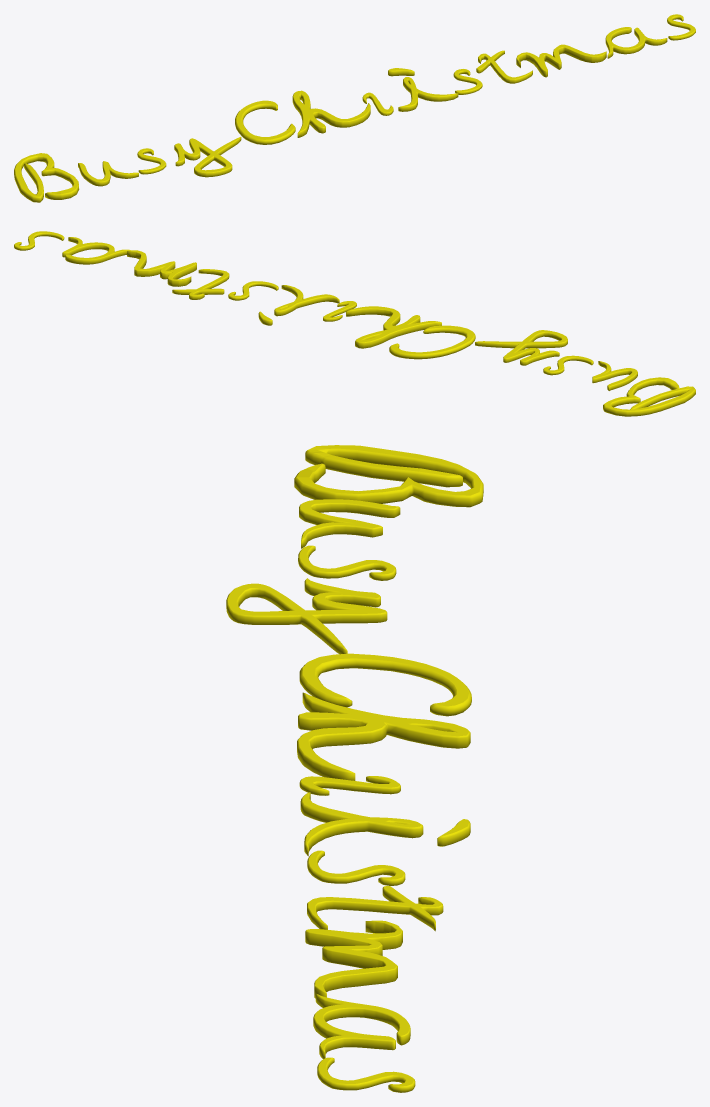
The model's file is title09180110-4.fbx.
3 views of the same model, one above another, from view 1: azimuth 30°, elevation 25°; view 2: azimuth 150°, elevation 25°; view 3: azimuth 270°, elevation 25° (orthographic). The views are drawn at different scales.
Visible parts, largest first — view 1: 平面; view 2: 平面; view 3: 平面.
Boxes of the visible parts, box(x1,y1,x2,y2) form: 平面: box(14, 14, 695, 202); 平面: box(14, 231, 695, 416); 平面: box(226, 445, 483, 1092).
Size of the model in its own units: 0.7488 by 0.0105 by 0.1263.
